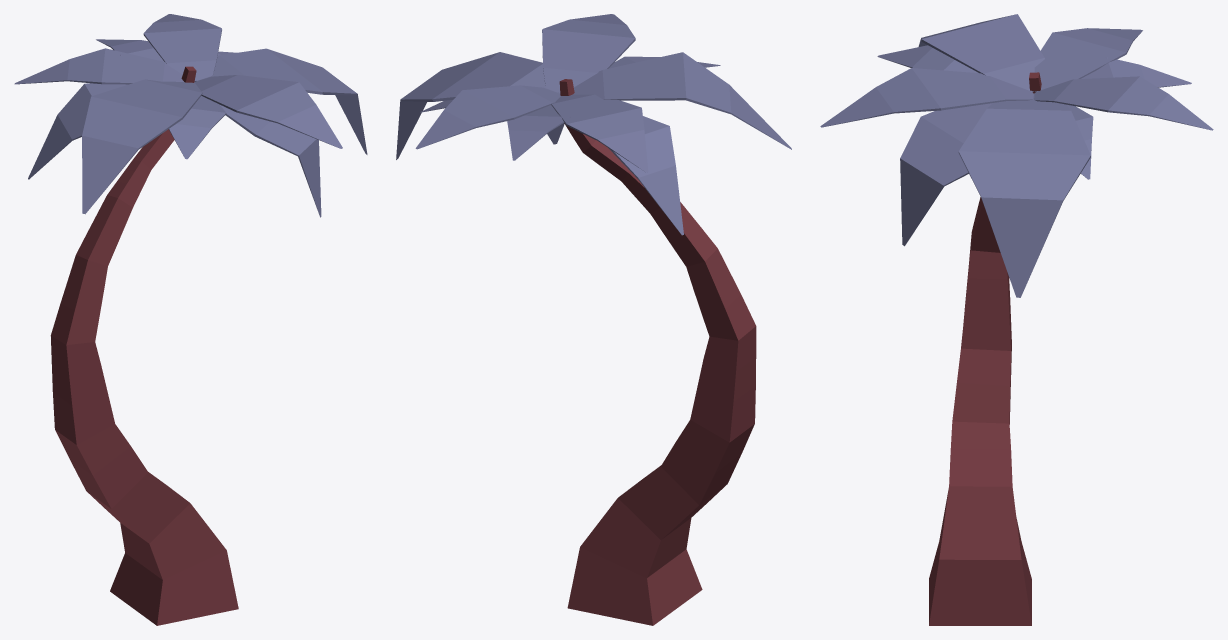
Rendered from Tree_A_00.fbx.
3 views of the same model, side by side, from view 1: azimuth 30°, elevation 25°; view 2: azimuth 150°, elevation 25°; view 3: azimuth 270°, elevation 25° (orthographic). The views are drawn at different scales.
Parts seen in each view (by area): view 1: Tree_A_00; view 2: Tree_A_00; view 3: Tree_A_00.
Part boxes in pixels (<box>): Tree_A_00: <box>14,14,367,625</box>; Tree_A_00: <box>396,14,791,625</box>; Tree_A_00: <box>820,14,1213,625</box>.
Bounding box in the file's own units: 372 × 547 × 351.
